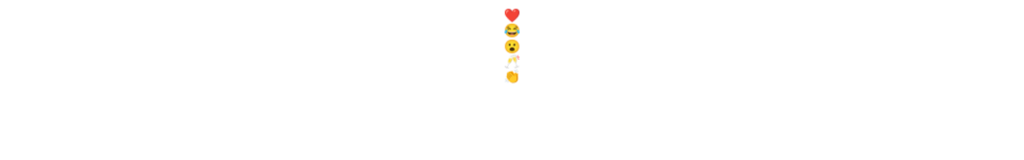
ReactionBar › says the connection dropped when it did, and shows what the server holds
Check: the button named "J’adore" is enabled, box [8,8,1016,23]
Step 1. Click the button named "Bravo" → (512, 77), box [8,69,1016,85]
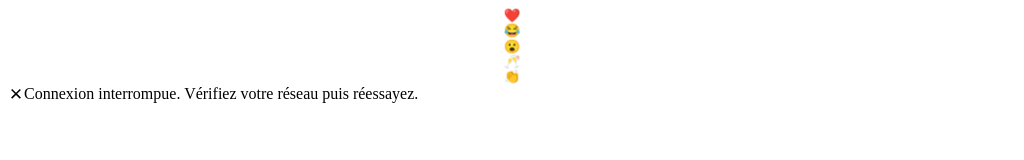
Check: the button named "J’adore" is enabled, box [8,8,1016,23]
Check: the message reads "Connexion interrompue. Vérifiez votre réseau puis réessayez.", box [24,85,418,102]
